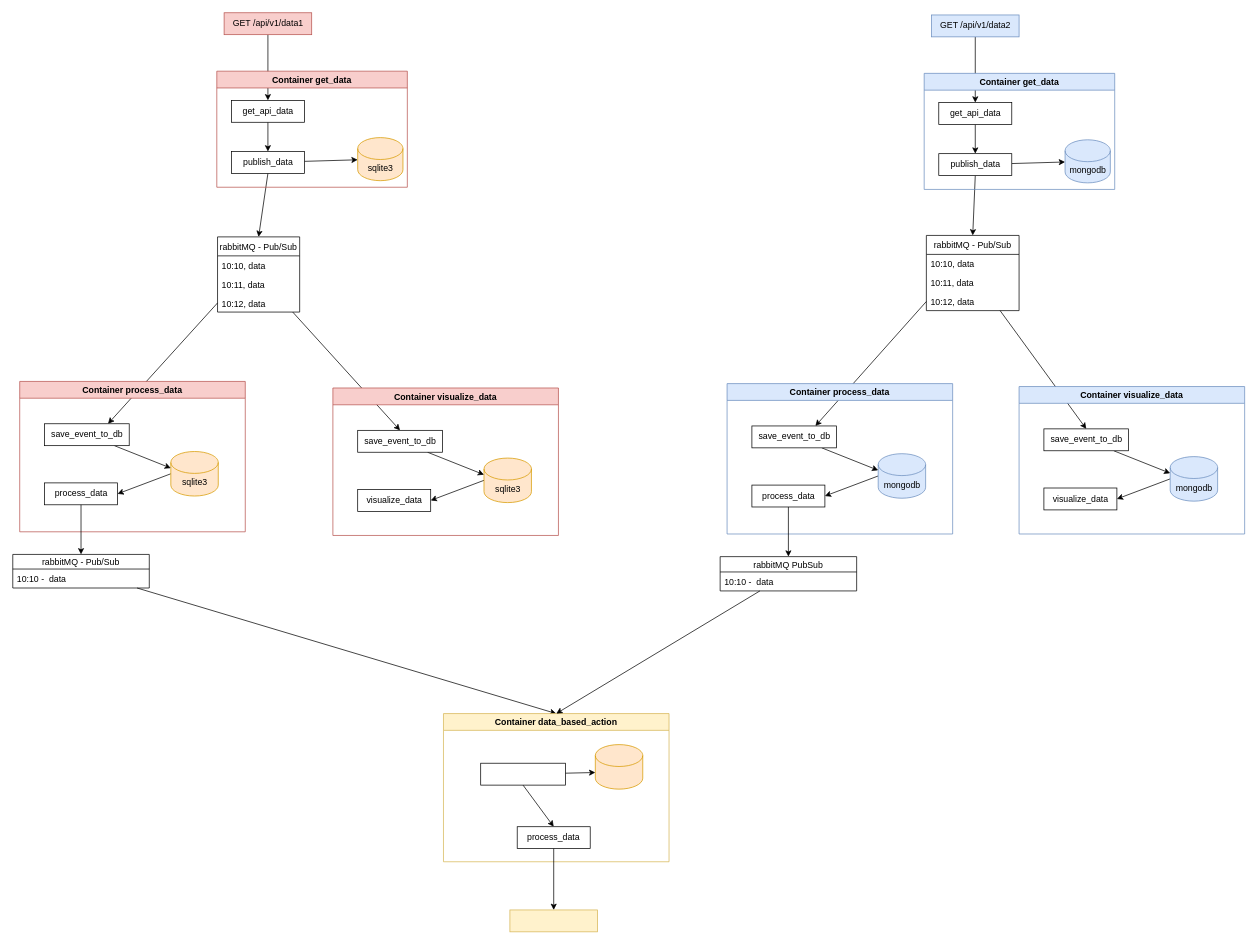
Some shapes in this 1258 by 945 pixel diagram are drawn without their labels. The shapes that lost their labels are listed below. From the top down, each one's centre as x and y in pixels, then its label:
At (522,773): "get_events".
At (619,766): "event.log".
At (553,920): "POST /api/v1".
